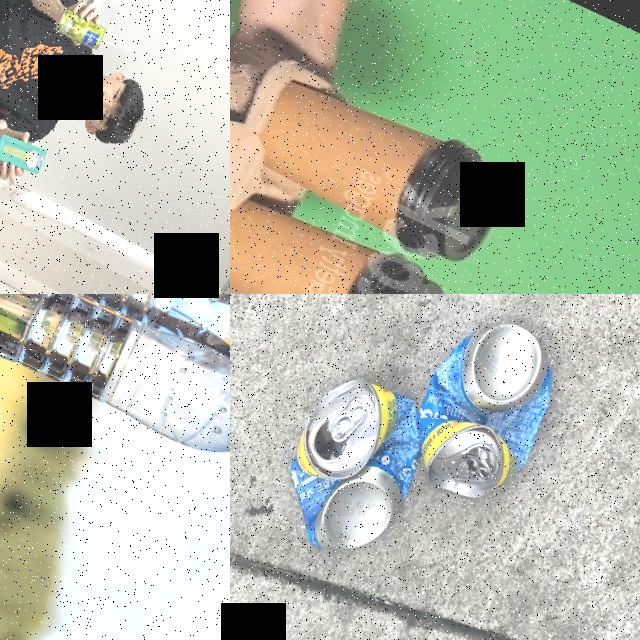bottle: (0, 294, 230, 500), (0, 294, 230, 411)
can: (52, 6, 107, 52)
cup: (230, 52, 524, 285), (230, 168, 465, 294)
